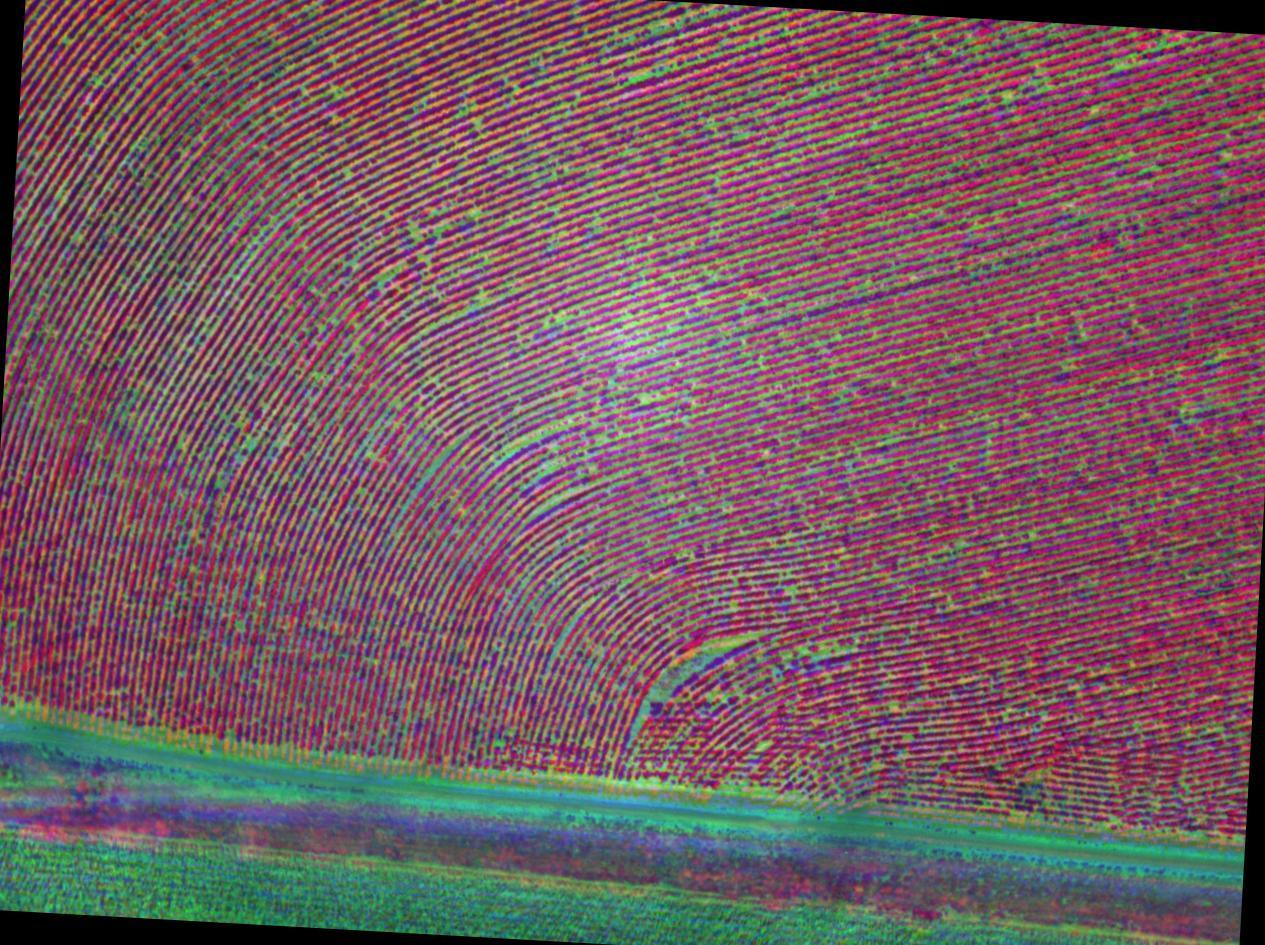dc: (621, 638, 747, 743), (591, 13, 698, 132), (136, 118, 254, 219), (121, 333, 222, 446), (386, 235, 502, 324)
